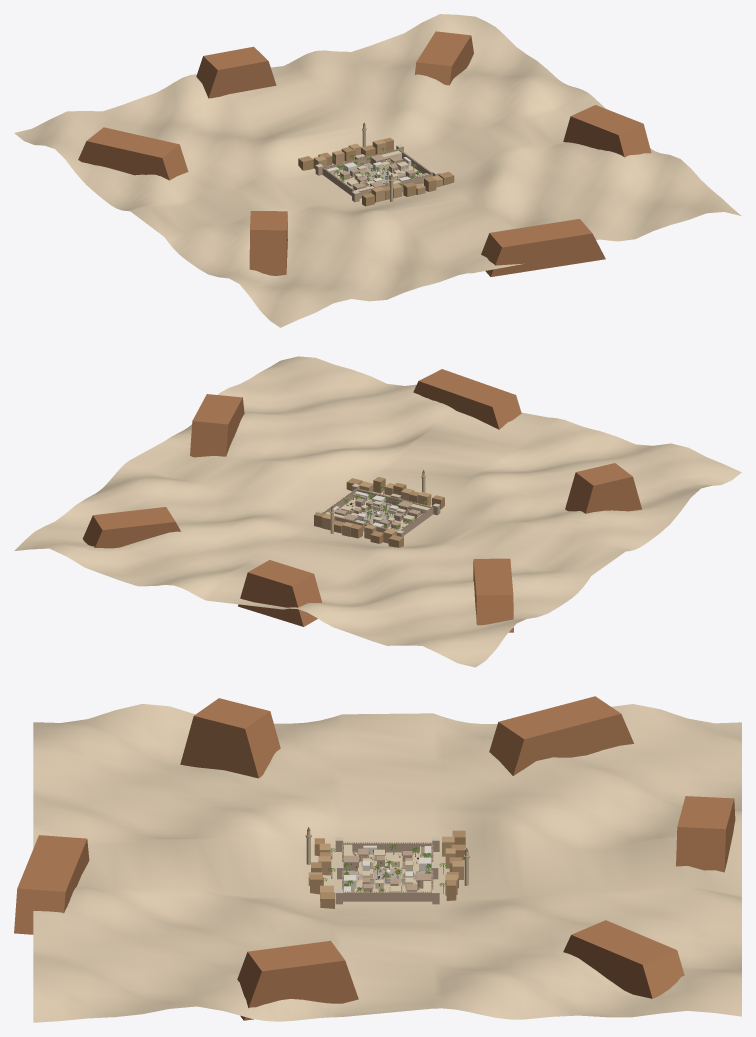
Rendered from desert.glb.
3 renders of one model, top to bottom at view 1: azimuth 30°, elevation 25°; view 2: azimuth 150°, elevation 25°; view 3: azimuth 270°, elevation 25°, orthographic. The views are drawn at different scales.
Visible parts, largest first — view 1: desert_dune, desert_far, desert_mud, desert_plaster; view 2: desert_dune, desert_far, desert_mud, desert_plaster; view 3: desert_dune, desert_far, desert_mud, desert_plaster, desert_sand, desert_lime, desert_stone.
Boxes of the visible parts, bbox=[...] form: desert_dune: bbox=[14, 14, 741, 327]; desert_far: bbox=[78, 31, 651, 276]; desert_mud: bbox=[315, 146, 440, 202]; desert_plaster: bbox=[330, 150, 427, 191]; desert_dune: bbox=[14, 356, 741, 667]; desert_far: bbox=[82, 369, 641, 632]; desert_mud: bbox=[315, 485, 440, 537]; desert_plaster: bbox=[325, 493, 429, 530]; desert_dune: bbox=[33, 704, 741, 1022]; desert_far: bbox=[14, 696, 735, 1020]; desert_mud: bbox=[335, 841, 439, 904]; desert_plaster: bbox=[344, 844, 431, 892]; desert_sand: bbox=[352, 852, 423, 892]; desert_lime: bbox=[344, 845, 431, 892]; desert_stone: bbox=[335, 837, 439, 893].
Bounding box in the file's own units: 520 × 44.09 × 534.
Materials: 24 (6 with a texture image).
